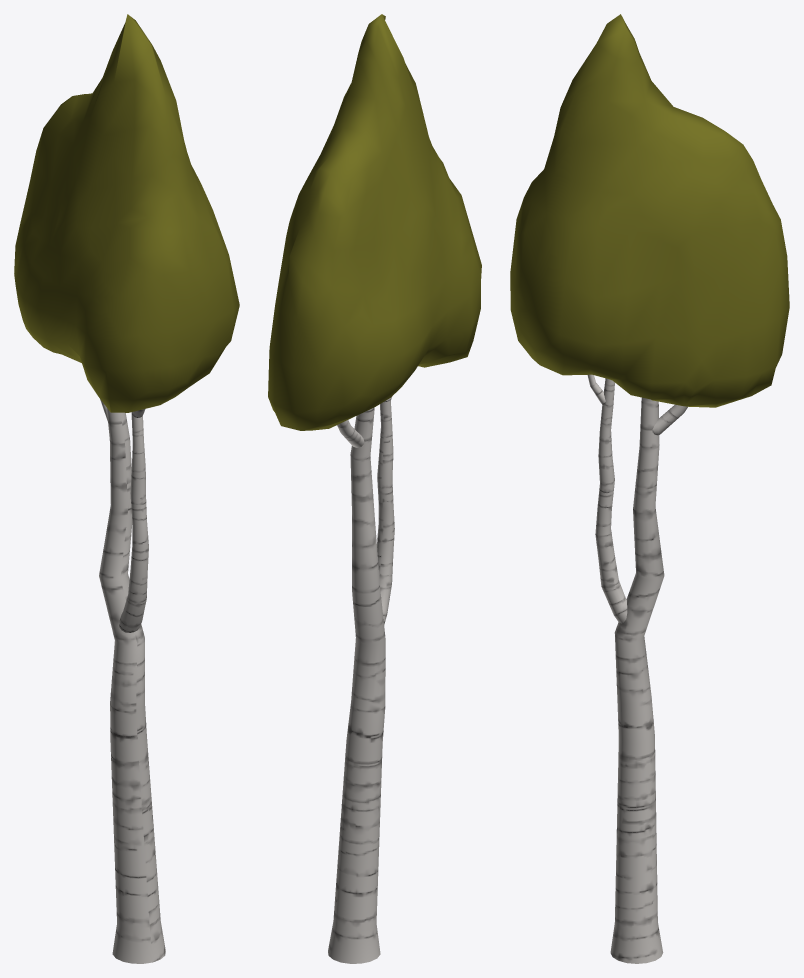
Rendered from Sm_BirchTree3L.fbx.
The picture shows the model from 3 angles, left to right: view 1: azimuth 30°, elevation 25°; view 2: azimuth 150°, elevation 25°; view 3: azimuth 270°, elevation 25°; orthographic projection. The views are drawn at different scales.
Visible parts, largest first — view 1: Sm_BirchTree3L; view 2: Sm_BirchTree3L; view 3: Sm_BirchTree3L.
Part boxes in pixels (box(x1,y1,x2,y2)): Sm_BirchTree3L: box(14, 14, 239, 963); Sm_BirchTree3L: box(268, 14, 481, 963); Sm_BirchTree3L: box(510, 14, 789, 963).
Bounding box in the file's own units: 132 × 774 × 211.
